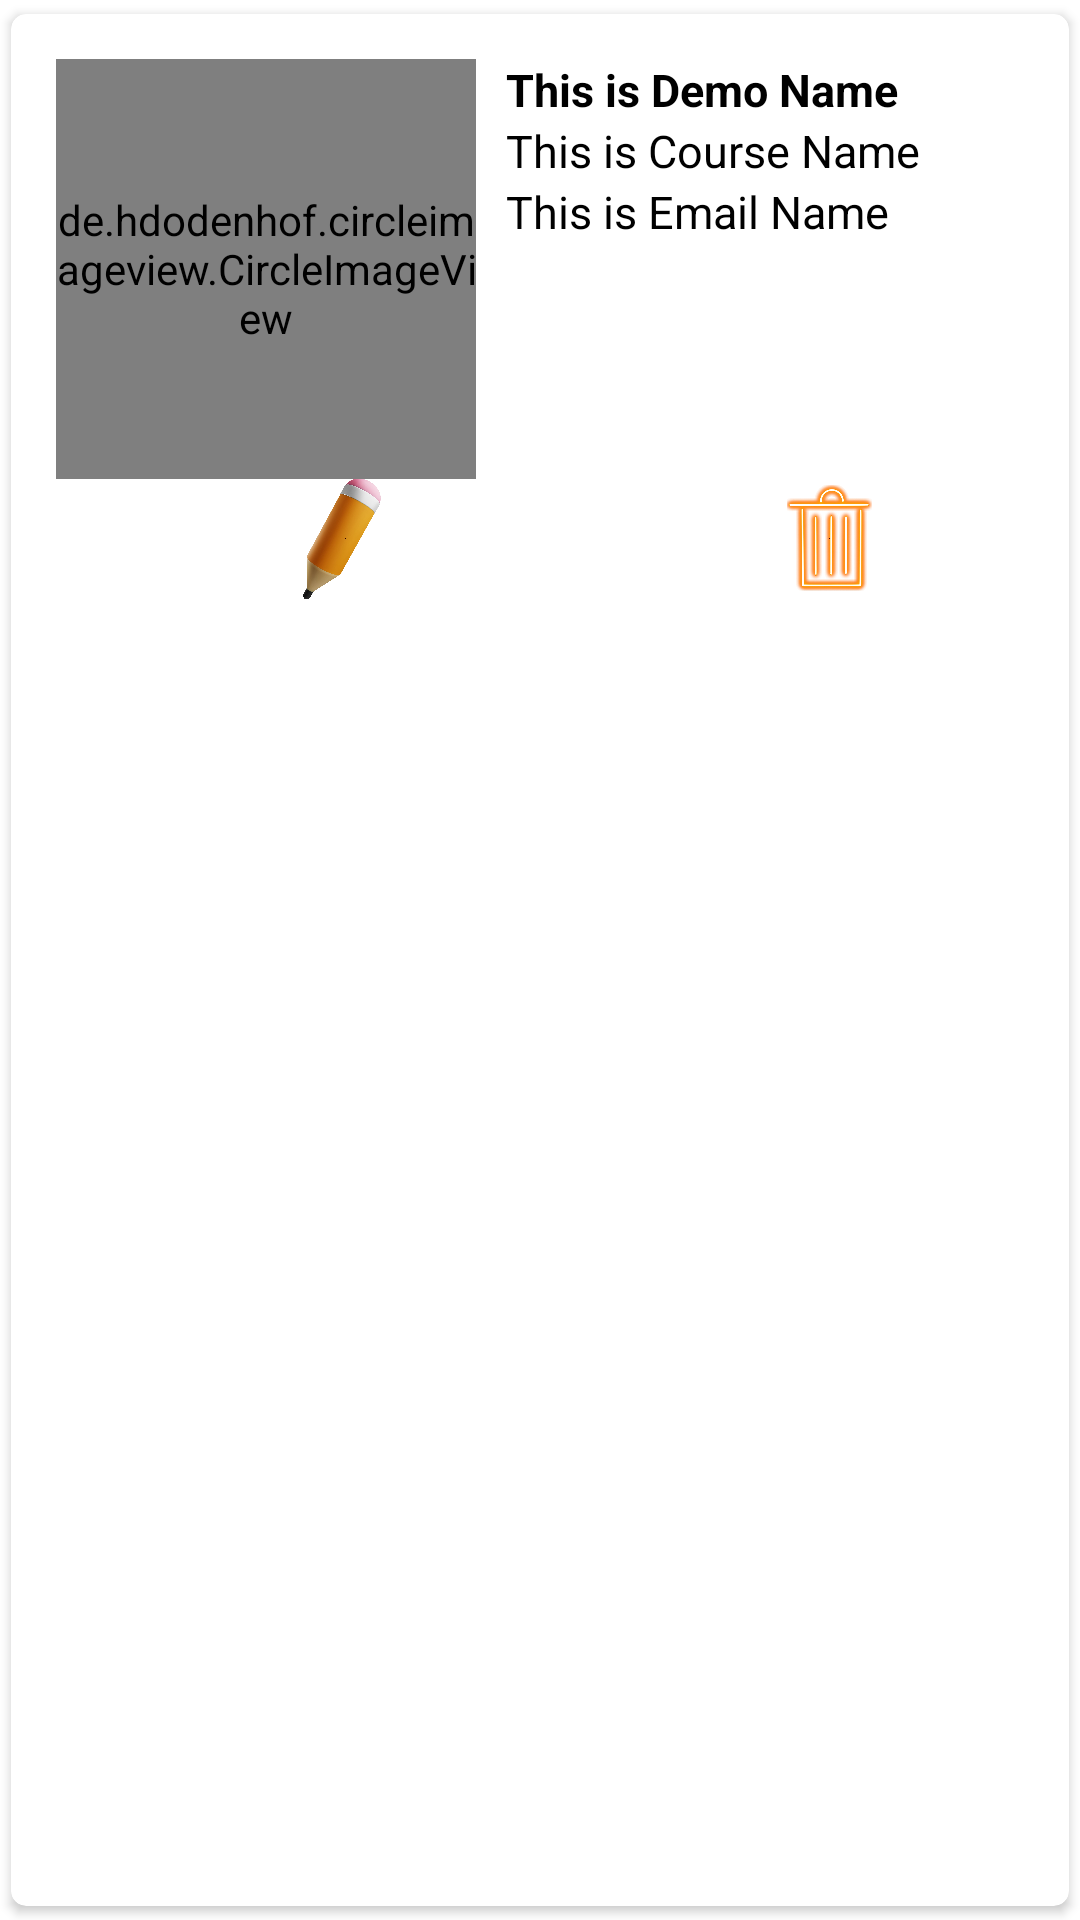

Named icons in this screenshot (1080×1920) and their centers, (x=x, y=y):
poub: (x=829, y=538)
stylo: (x=342, y=539)
